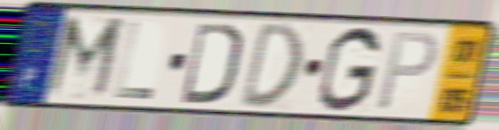D: (236, 19, 305, 111), (178, 19, 244, 107)
G: (315, 24, 384, 115)
L: (111, 18, 157, 102)
M: (40, 12, 129, 104)
P: (373, 30, 441, 114)
